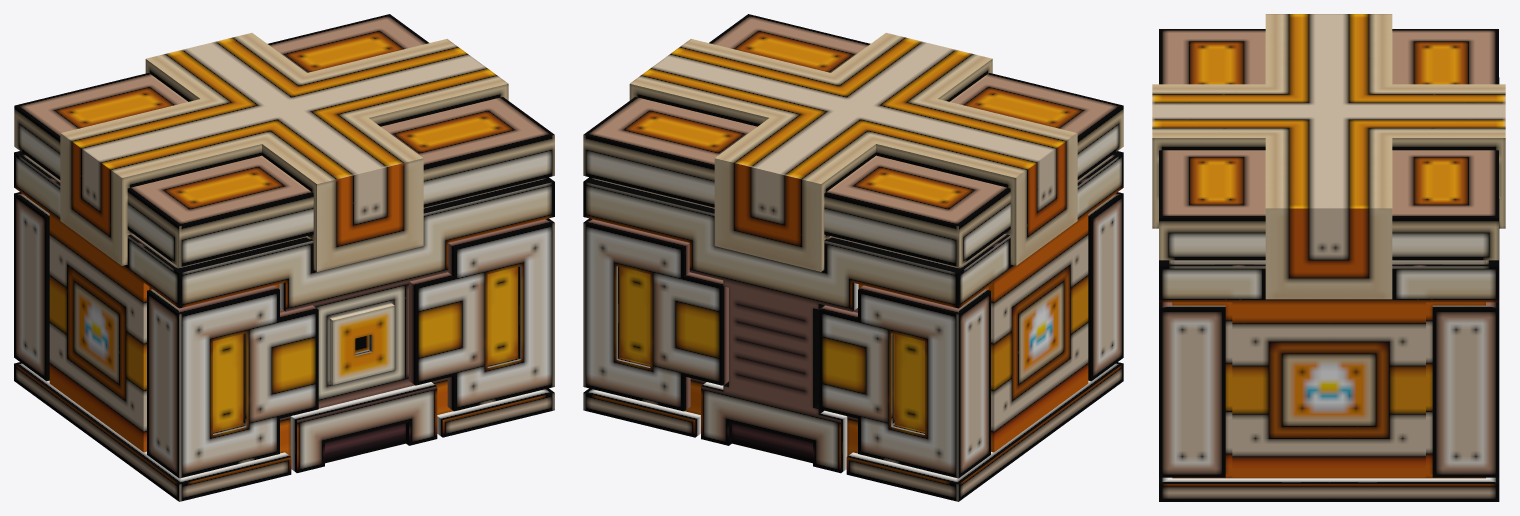
File: egg_easter_lottery_chest_1.fbx
3 views of the same model, side by side, from view 1: azimuth 30°, elevation 25°; view 2: azimuth 150°, elevation 25°; view 3: azimuth 270°, elevation 25° (orthographic). The views are drawn at different scales.
Parts seen in each view (by area): view 1: egg_easter_lottery_chest_1, lid_event_chest_1_mesh; view 2: egg_easter_lottery_chest_1, lid_event_chest_1_mesh; view 3: lid_event_chest_1_mesh, egg_easter_lottery_chest_1.
Boxes of the visible parts, left/top/right/bottom form: egg_easter_lottery_chest_1: left=14, top=151, right=554, bottom=501; lid_event_chest_1_mesh: left=14, top=14, right=554, bottom=271; egg_easter_lottery_chest_1: left=583, top=151, right=1123, bottom=501; lid_event_chest_1_mesh: left=583, top=14, right=1123, bottom=271; lid_event_chest_1_mesh: left=1152, top=14, right=1505, bottom=299; egg_easter_lottery_chest_1: left=1159, top=77, right=1499, bottom=501.
Bounding box in the file's own units: 3.63 × 2.58 × 2.79.
Materials: 1 (1 with a texture image).
